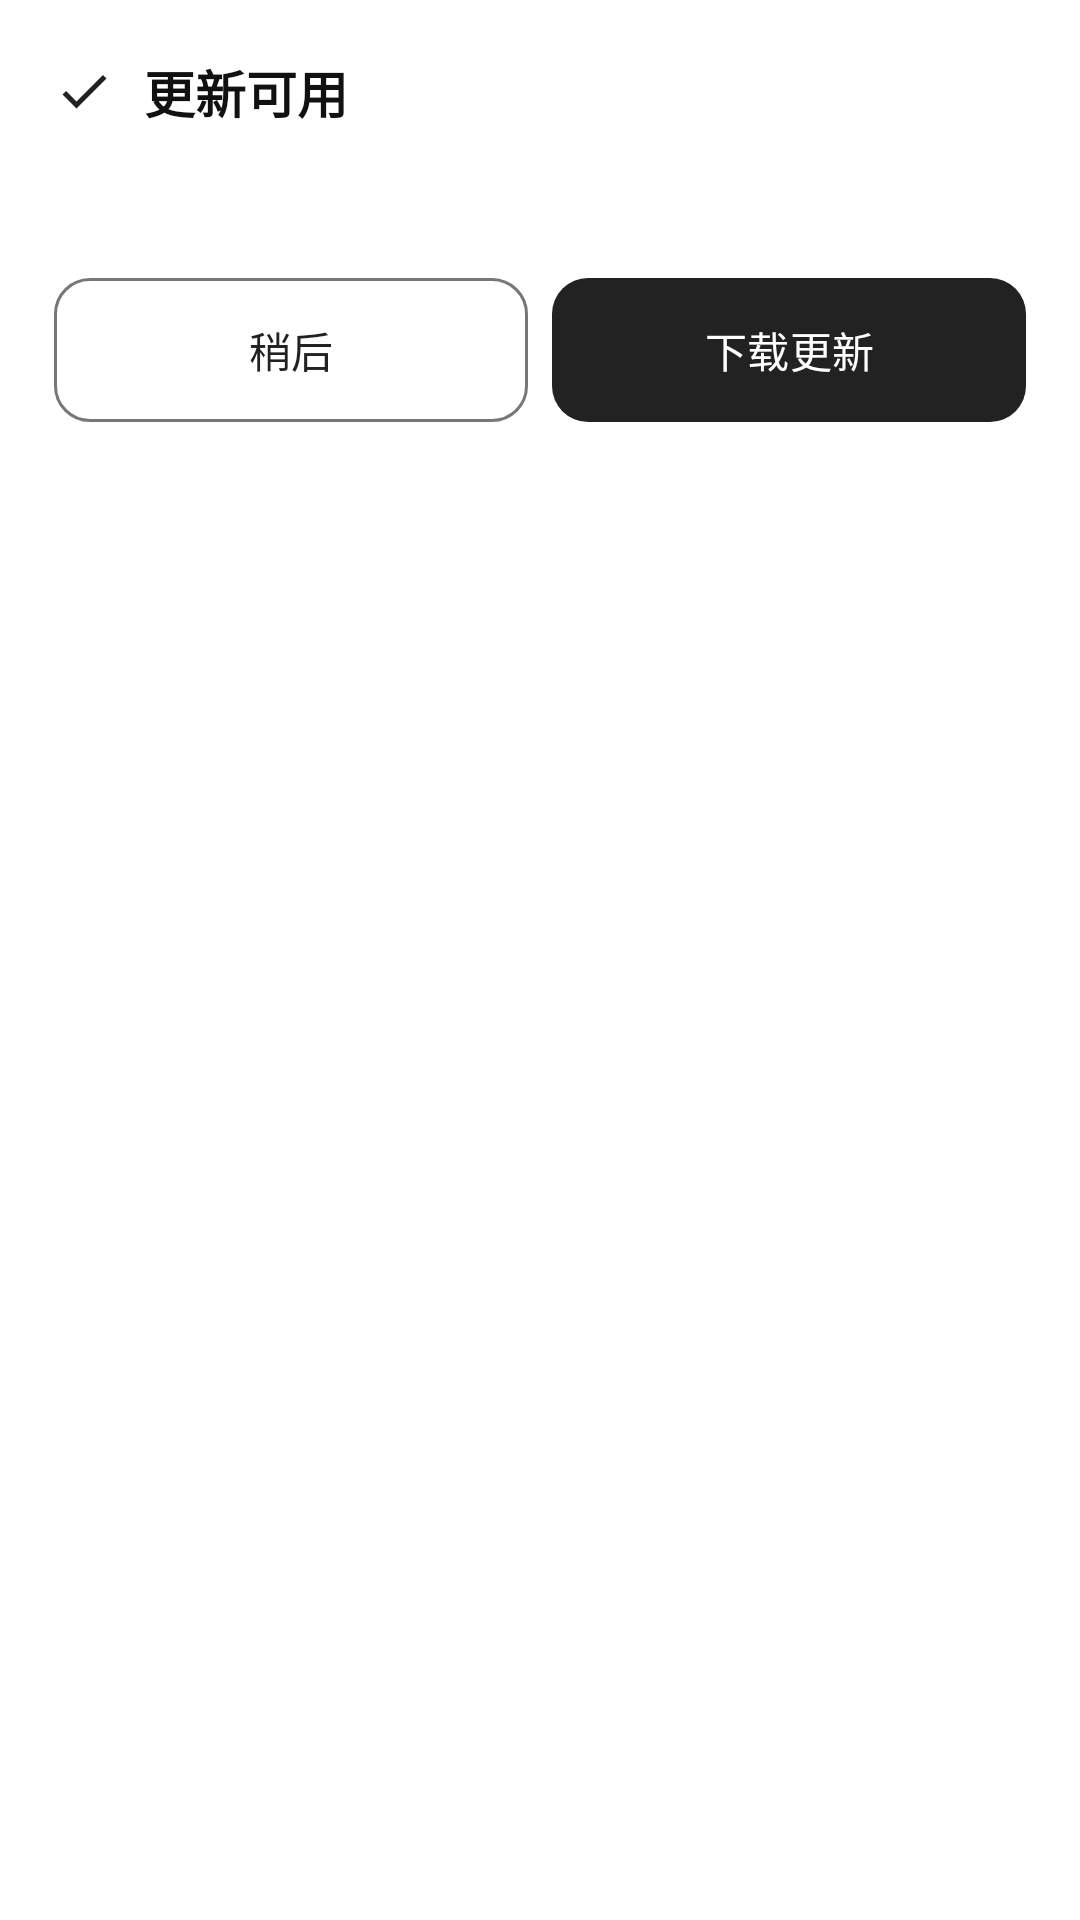

Icons on this 1080px×1920px Android screen, each with the point to tap as [x,y]:
check: [84,92]
